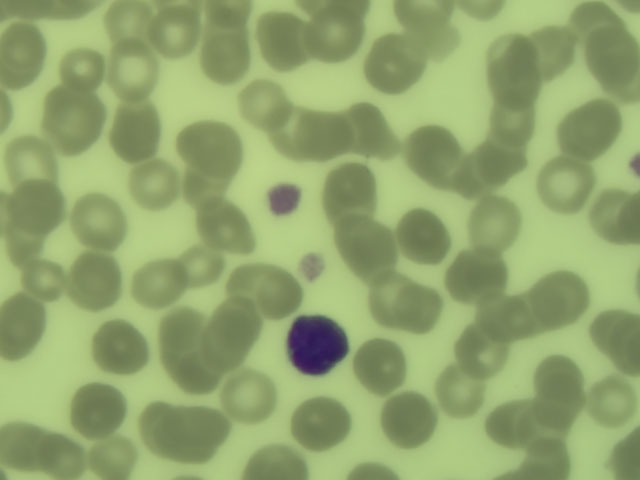Platelets: (270, 183, 303, 216), (297, 251, 327, 279), (627, 148, 640, 177)
RBC: (42, 91, 103, 146), (232, 270, 299, 318), (586, 30, 640, 85), (89, 320, 146, 372), (542, 157, 594, 214), (288, 399, 352, 445), (179, 121, 239, 170), (254, 14, 309, 67), (535, 272, 593, 322), (339, 216, 392, 270), (72, 195, 126, 247), (198, 204, 255, 253), (349, 102, 395, 162), (314, 190, 378, 233), (565, 99, 615, 153), (8, 183, 63, 232), (113, 106, 164, 158), (111, 48, 161, 101), (458, 329, 509, 380), (75, 383, 125, 435), (223, 374, 278, 421), (302, 110, 351, 162), (4, 137, 57, 185), (366, 40, 411, 96), (243, 443, 311, 480), (355, 345, 410, 390), (399, 209, 448, 259), (1, 294, 47, 347), (171, 346, 224, 392), (105, 3, 157, 49), (457, 251, 509, 297), (476, 141, 529, 186), (1, 26, 49, 75), (133, 259, 184, 305), (484, 109, 541, 150), (534, 26, 578, 79), (435, 368, 484, 415), (203, 33, 249, 83), (411, 126, 457, 175), (470, 199, 516, 248), (202, 318, 246, 369), (72, 258, 119, 305), (370, 280, 418, 326), (386, 394, 427, 447), (533, 360, 588, 399), (62, 44, 107, 91), (160, 308, 204, 356), (160, 417, 204, 464), (312, 16, 359, 60), (473, 300, 526, 339), (181, 404, 229, 447), (526, 399, 574, 442), (276, 107, 318, 155), (493, 69, 541, 111), (125, 167, 174, 208), (239, 84, 289, 124), (595, 308, 640, 351), (599, 193, 640, 240), (1, 422, 40, 471), (24, 256, 67, 299), (217, 302, 261, 344), (91, 439, 136, 480), (589, 383, 637, 421), (394, 1, 454, 31), (484, 33, 529, 73), (178, 245, 219, 288), (488, 405, 532, 445), (332, 163, 373, 205), (139, 402, 179, 445), (181, 172, 228, 208), (405, 286, 440, 334), (46, 441, 88, 480), (524, 442, 567, 480), (451, 152, 488, 195), (606, 434, 640, 480), (358, 251, 401, 286), (611, 327, 640, 376), (345, 456, 399, 480), (208, 1, 249, 26), (465, 2, 503, 20)
WBC: (286, 314, 352, 374)
